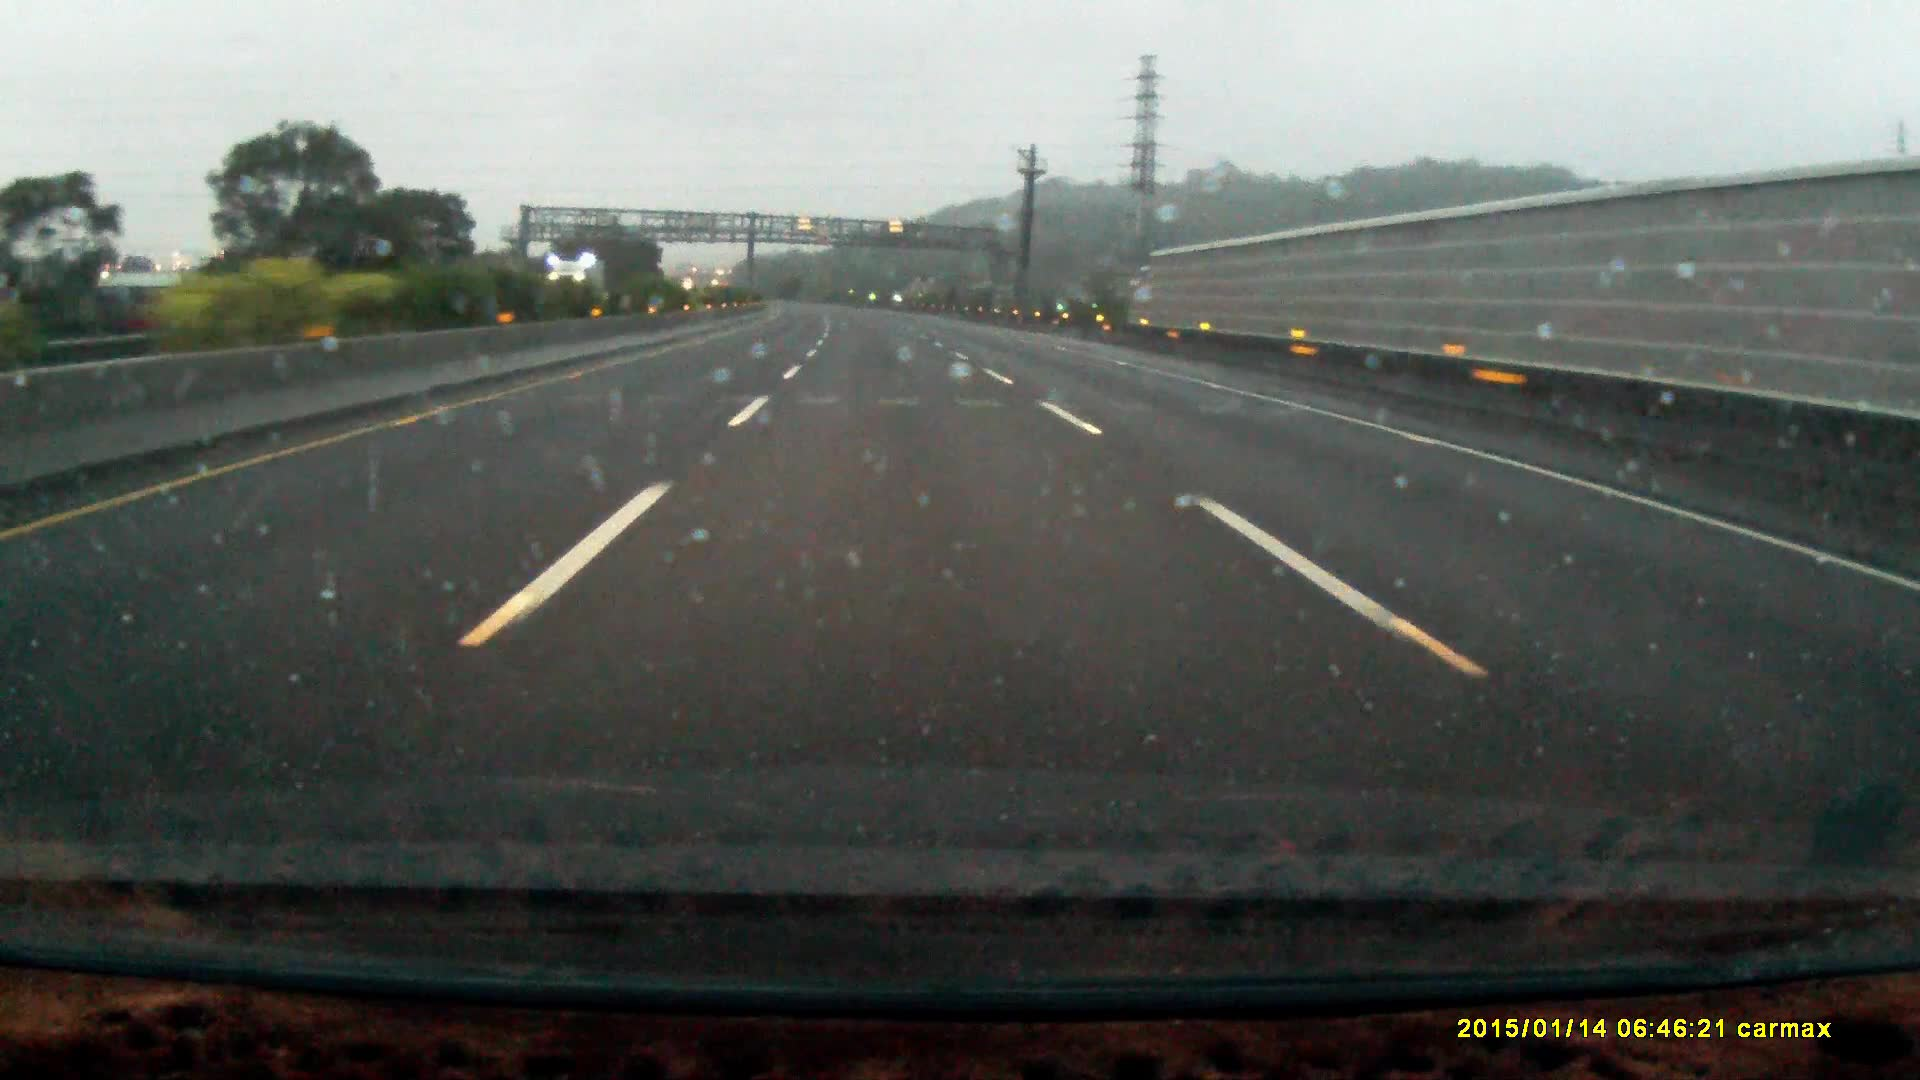vehicle: (546, 260, 603, 316)
